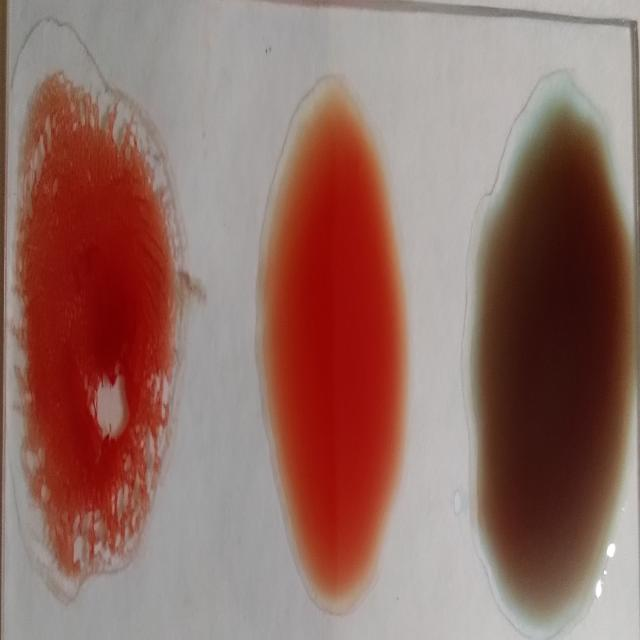D: (7, 46, 172, 593)
